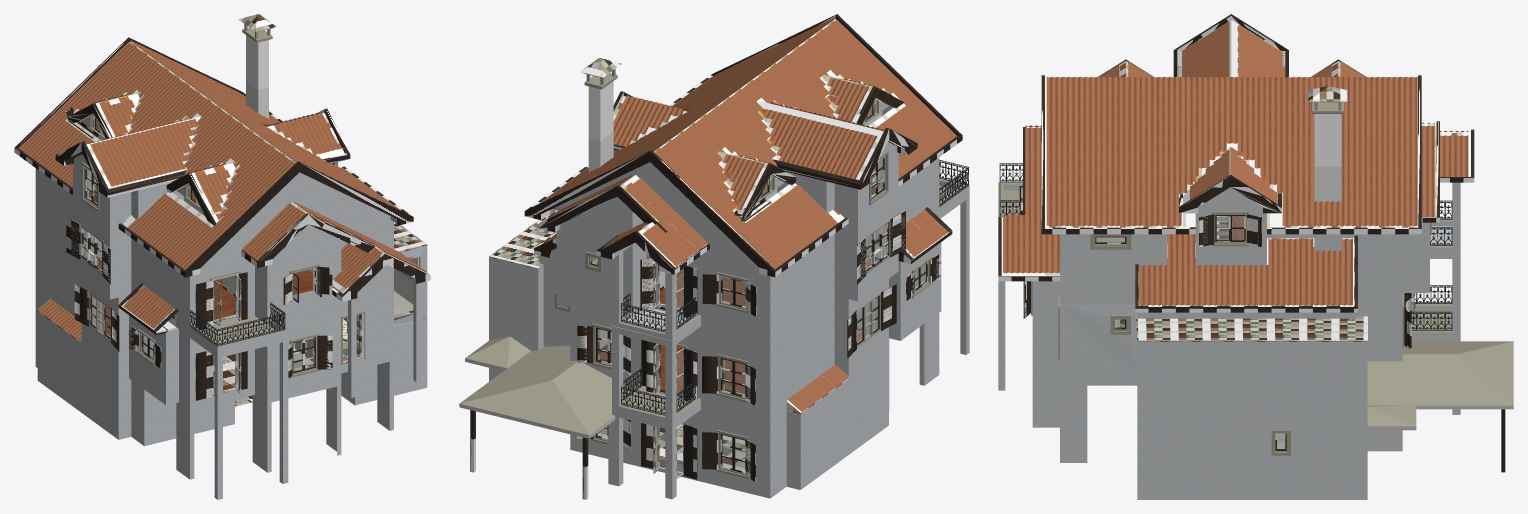
Rendered from architecture.glb.
The picture shows the model from 3 angles, left to right: view 1: azimuth 30°, elevation 25°; view 2: azimuth 150°, elevation 25°; view 3: azimuth 270°, elevation 25°; orthographic projection. The views are drawn at different scales.
Parts seen in each view (by area): view 1: architecture-other-9, architecture-tile-1, architecture-wood-2, architecture-other-4, architecture-tile-7, architecture-glass-3, architecture-plaster-0, architecture-metal-6, architecture-plaster-5, architecture-wood-10; view 2: architecture-other-9, architecture-tile-1, architecture-wood-2, architecture-other-4, architecture-glass-3, architecture-tile-7, architecture-metal-6, architecture-plaster-0, architecture-wood-10, architecture-plaster-5; view 3: architecture-tile-1, architecture-other-9, architecture-other-4, architecture-wood-2, architecture-tile-7, architecture-plaster-0, architecture-metal-6, architecture-glass-3.
Part boxes in pixels (x1,y1,x2,y2): architecture-other-9: (35, 116, 427, 499); architecture-tile-1: (18, 40, 426, 341); architecture-wood-2: (14, 37, 430, 400); architecture-other-4: (80, 14, 427, 406); architecture-tile-7: (37, 42, 427, 343); architecture-glass-3: (83, 115, 320, 393); architecture-plaster-0: (88, 35, 406, 330); architecture-metal-6: (190, 302, 285, 346); architecture-plaster-5: (85, 230, 418, 399); architecture-wood-10: (89, 119, 313, 336); architecture-other-9: (489, 100, 969, 499); architecture-tile-1: (539, 17, 956, 411); architecture-wood-2: (459, 14, 962, 499); architecture-other-4: (459, 58, 969, 478); architecture-glass-3: (592, 100, 925, 476); architecture-tile-7: (542, 19, 922, 413); architecture-metal-6: (621, 160, 968, 415); architecture-plaster-0: (588, 81, 882, 307); architecture-wood-10: (599, 104, 880, 394); architecture-plaster-5: (599, 225, 924, 383); architecture-tile-1: (1003, 22, 1468, 305); architecture-other-9: (998, 51, 1460, 499); architecture-other-4: (998, 86, 1513, 455); architecture-wood-2: (998, 14, 1513, 472); architecture-tile-7: (1001, 20, 1470, 305); architecture-plaster-0: (1314, 114, 1341, 202); architecture-metal-6: (999, 163, 1452, 330); architecture-glass-3: (1021, 187, 1413, 448).
Size of the model in its own units: 14.28 by 14.92 by 18.8.
Materials: 11 (11 with a texture image).
